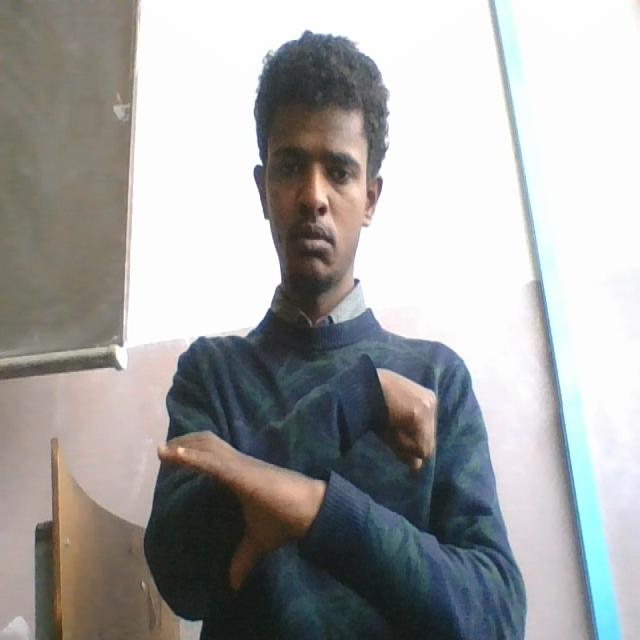hager: (156, 348, 444, 606)
